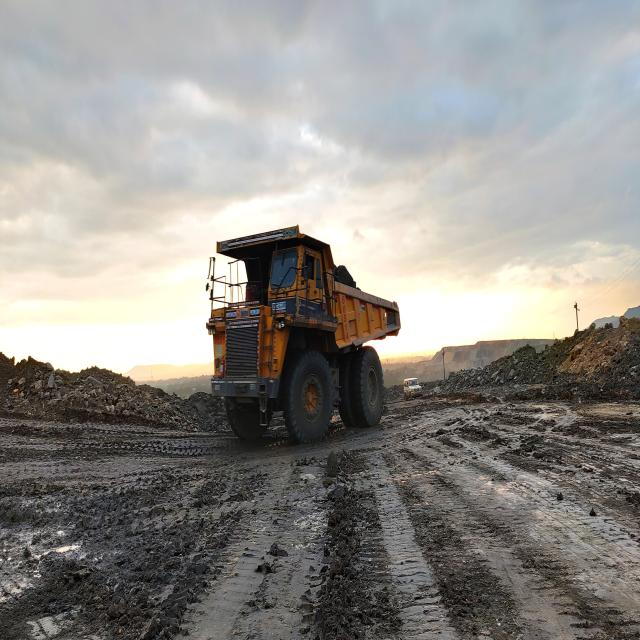dump_truck: (208, 227, 400, 442)
light_vehicle: (404, 378, 422, 400)
